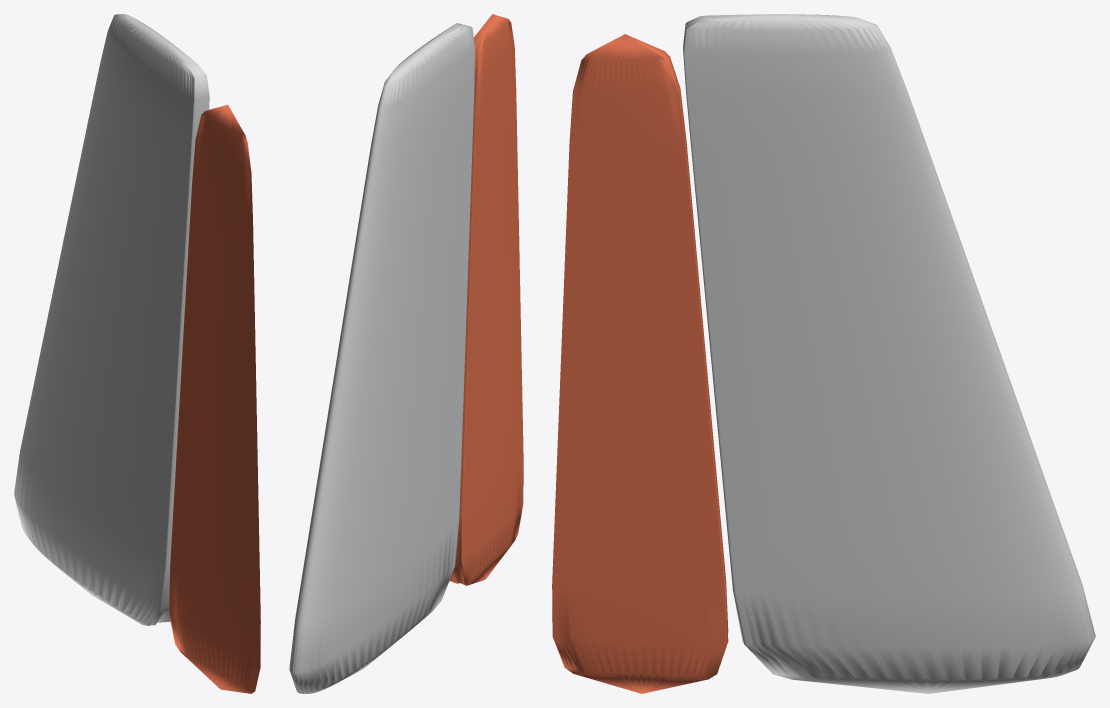
The model's file is fin.glb.
3 views of the same model, side by side, from view 1: azimuth 30°, elevation 25°; view 2: azimuth 150°, elevation 25°; view 3: azimuth 270°, elevation 25° (orthographic). The views are drawn at different scales.
Visible parts, largest first — view 1: FinMain, FinControl; view 2: FinMain, FinControl; view 3: FinMain, FinControl.
Part boxes in pixels (<box>): FinMain: <box>14,14,209,625</box>; FinControl: <box>169,104,260,693</box>; FinMain: <box>289,23,474,693</box>; FinControl: <box>449,14,523,585</box>; FinMain: <box>683,14,1095,693</box>; FinControl: <box>552,34,728,693</box>.
Size of the model in its own units: 0.1024 by 1.44 by 1.04.
